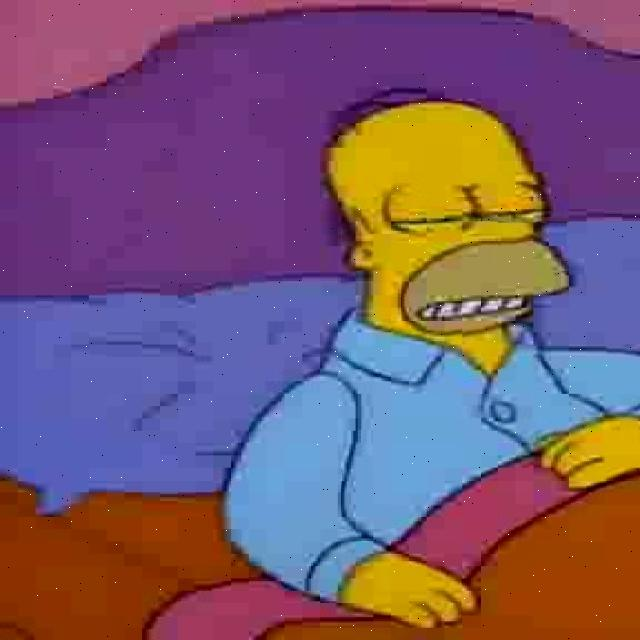Homer Simpson: (322, 100, 576, 349)
